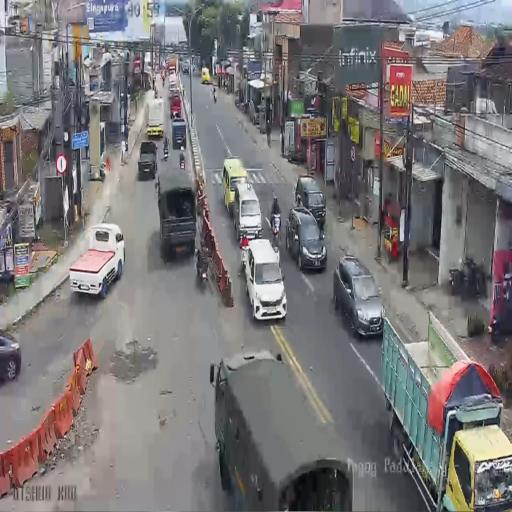car: (333, 255, 384, 336), (242, 239, 286, 321), (285, 208, 326, 272), (232, 184, 261, 242), (0, 330, 22, 383), (137, 140, 158, 179), (171, 118, 186, 150), (169, 93, 182, 118), (201, 66, 210, 84), (169, 72, 177, 92), (181, 62, 189, 74)
motorcycle: (240, 99, 250, 115), (213, 90, 217, 103)
truck: (377, 318, 509, 512), (155, 168, 197, 260), (146, 98, 164, 138), (143, 52, 154, 86), (168, 55, 178, 74)
